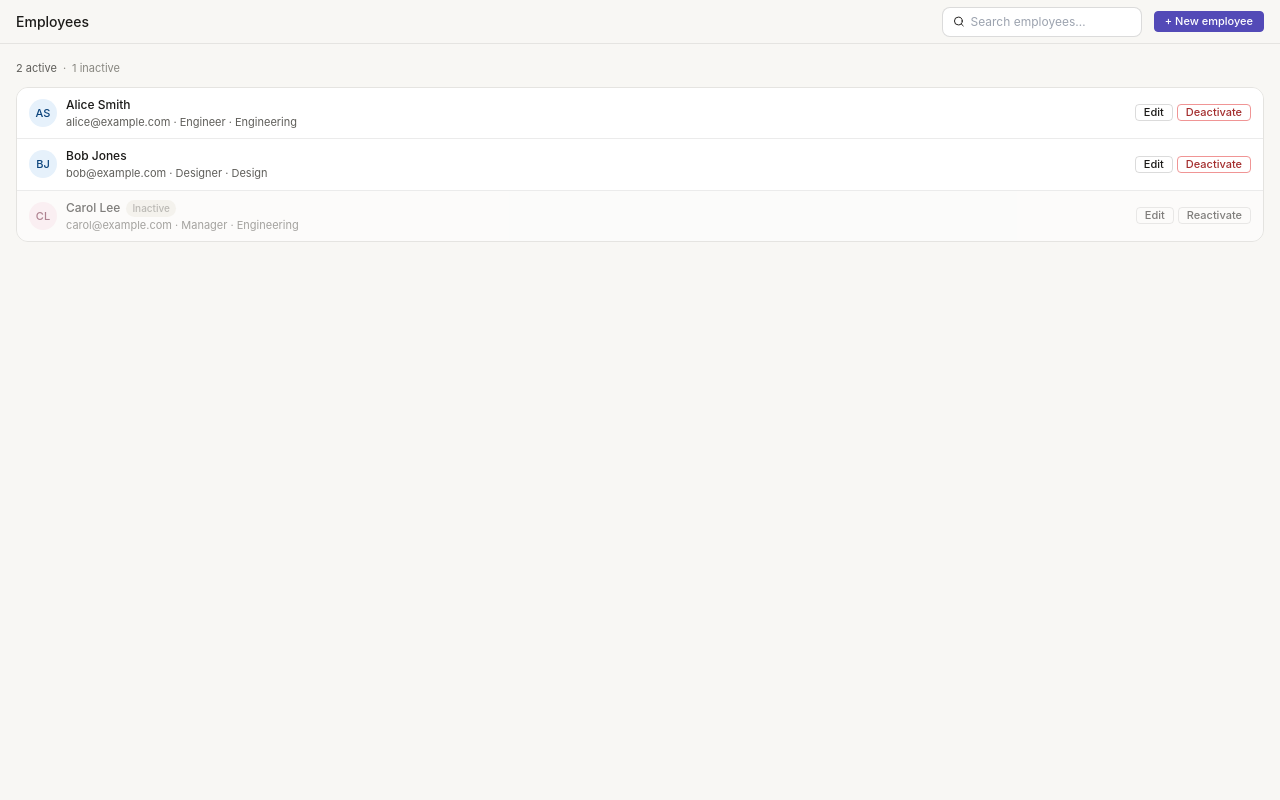
Test case: EmployeesPage › opens new employee modal when + New employee is clicked
The image size is (1280, 800).
Expected: the text "Alice Smith" is shown, [66,96,130,112]
What coordinates should you click on to do the following:
click the button "+ New employee"
I would click on:
 (1209, 22)
Its box is [1154,11,1264,32].
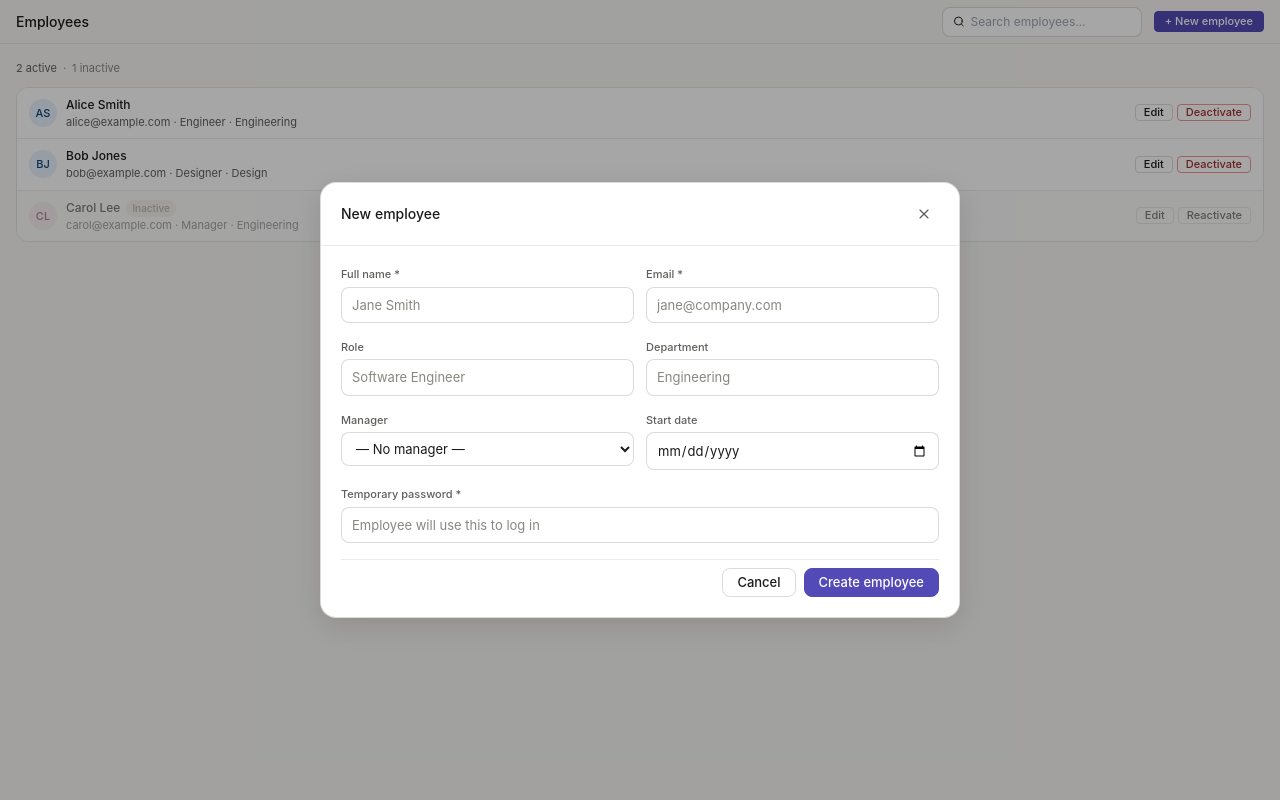
Expected: the dialog is shown, [320,182,960,618]
Expected: the heading "New employee" is shown, [341,205,440,223]
Expected: the field with placeholder "jane@company.com" is shown, [646,287,939,323]
